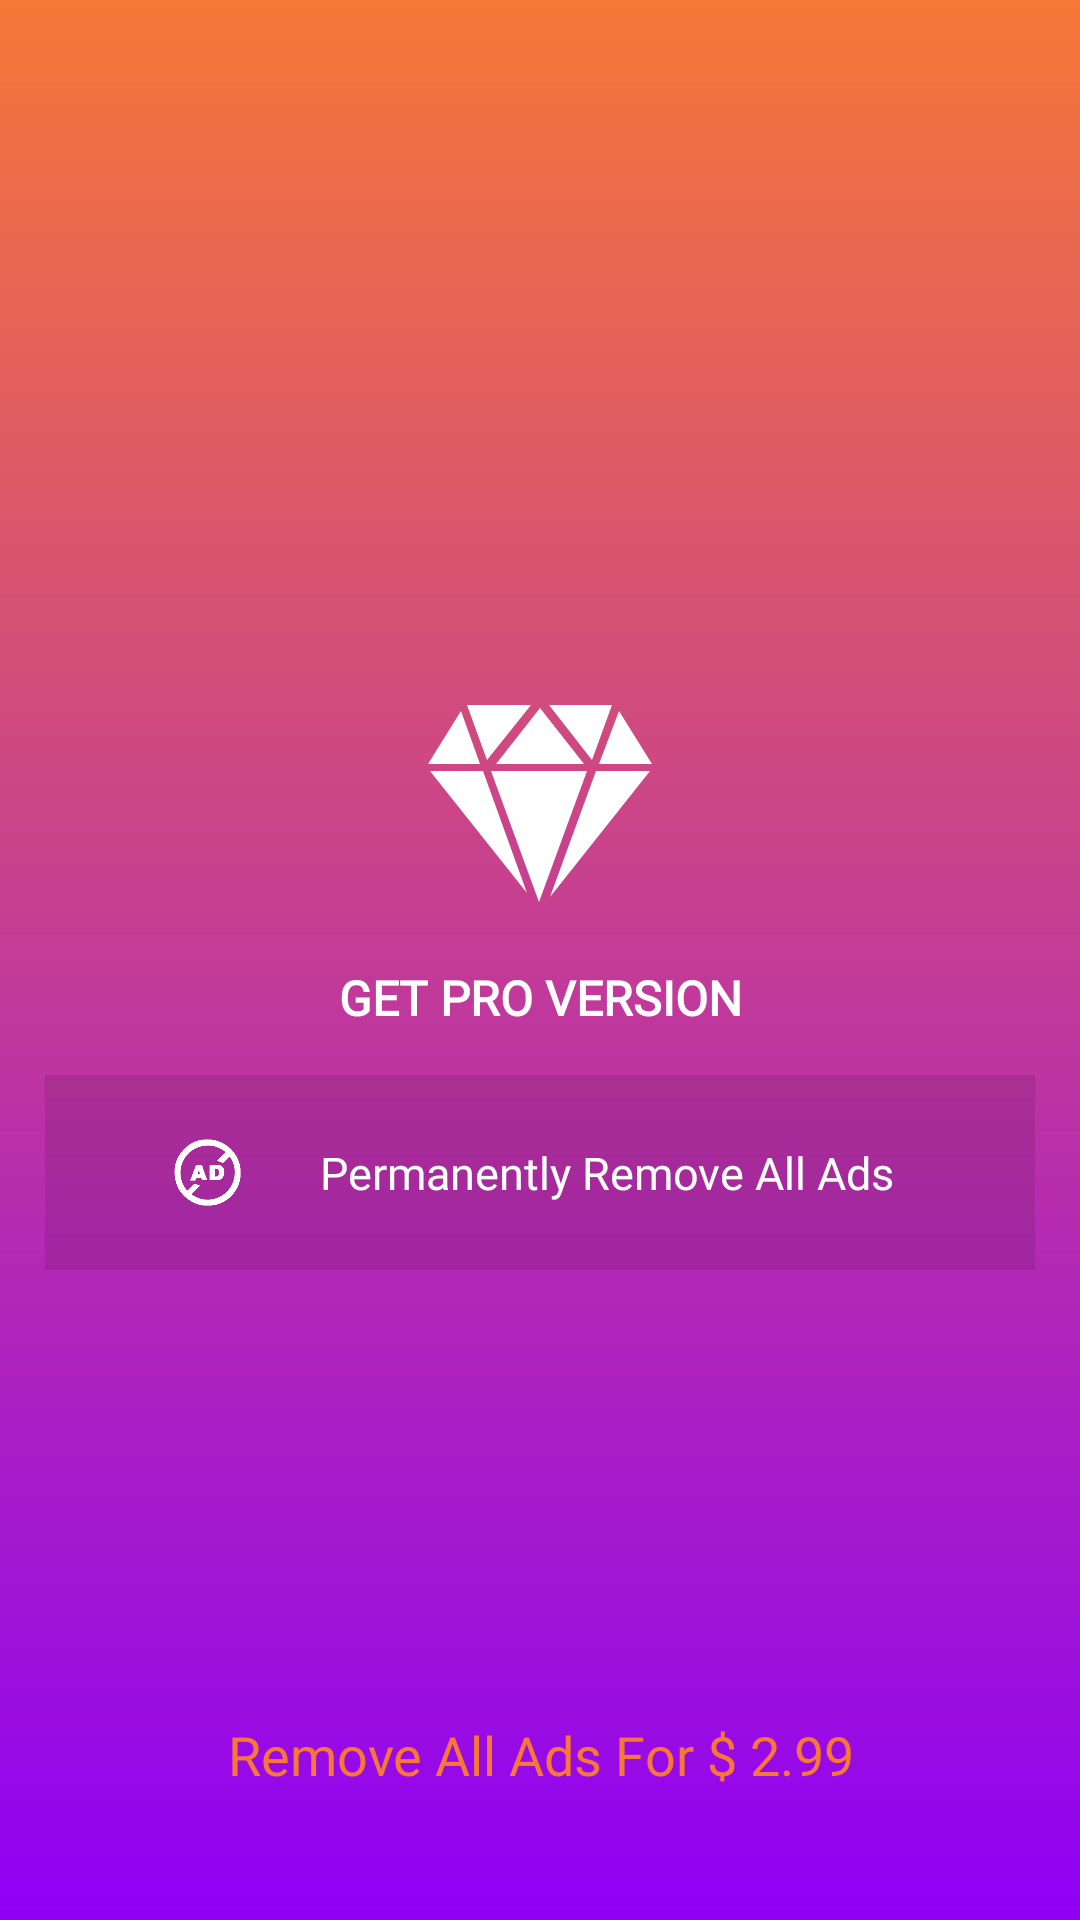

Where to tap for icons on this 1080 x 1920 app screen, as (x,y):
diamond: (540,803)
